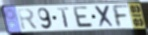9: (37, 7, 53, 30)
E: (72, 5, 95, 29)
F: (110, 4, 131, 29)
R: (16, 7, 40, 31)
T: (56, 7, 71, 29)
X: (94, 5, 116, 29)
